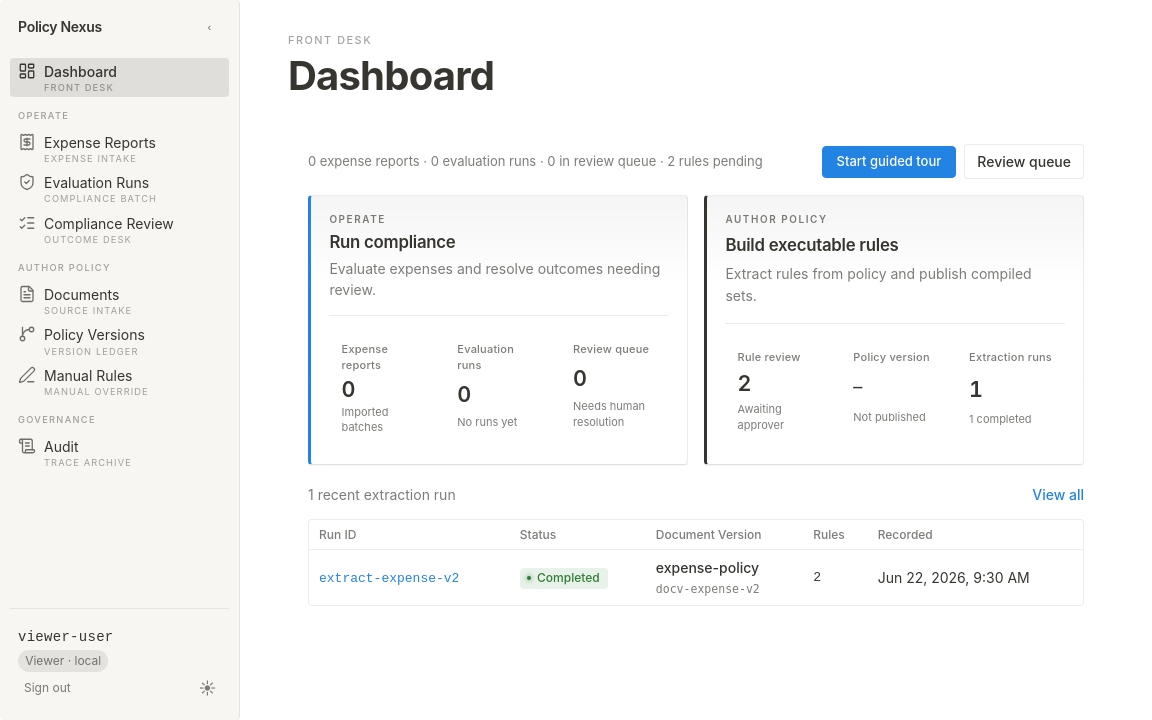
it: App › hides Policy Version publishing for viewer clearance
The width and height of the screenshot is (1152, 720).
Expected: the heading "Dashboard" is shown, x1=288 y1=51 x2=494 y2=100
Click the button "Policy Versions Version Ledger" at (120, 341), box x1=10 y1=321 x2=229 y2=361
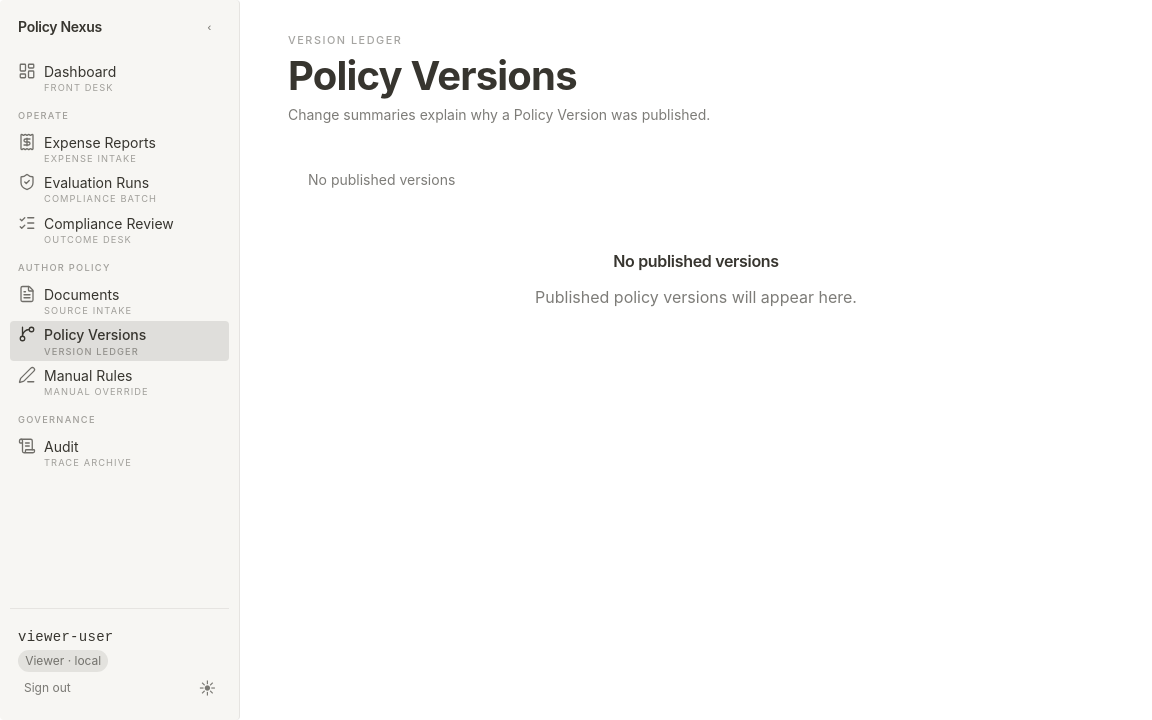
Now the heading "Policy Versions" is shown, box x1=288 y1=51 x2=577 y2=100
